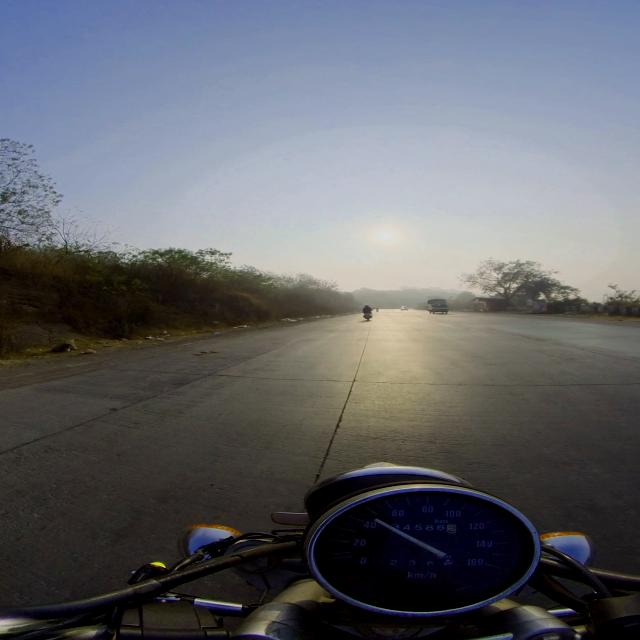car: (400, 307, 408, 310)
motorcycle: (0, 464, 639, 639), (364, 313, 372, 321)
